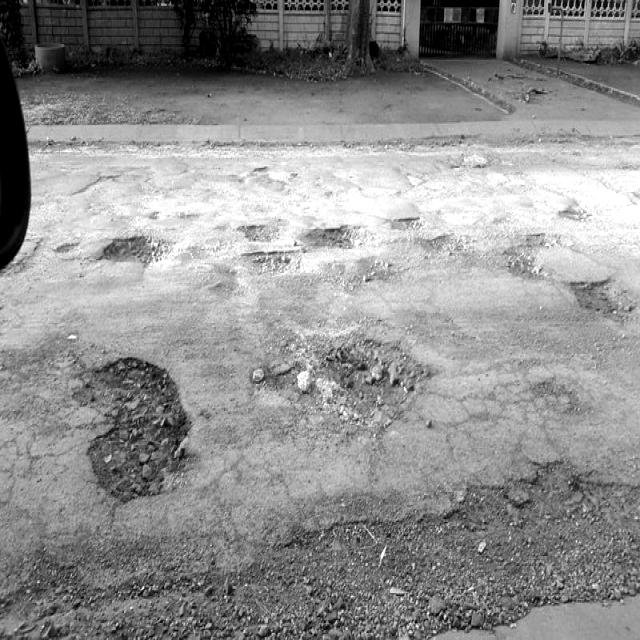pathole: (75, 144, 640, 594)
